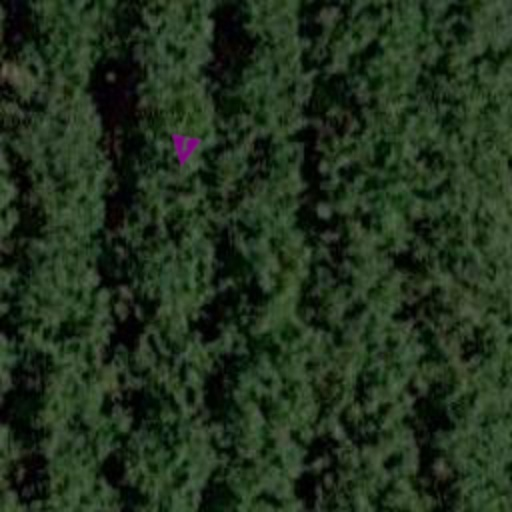triangle: (166, 134, 202, 170)
